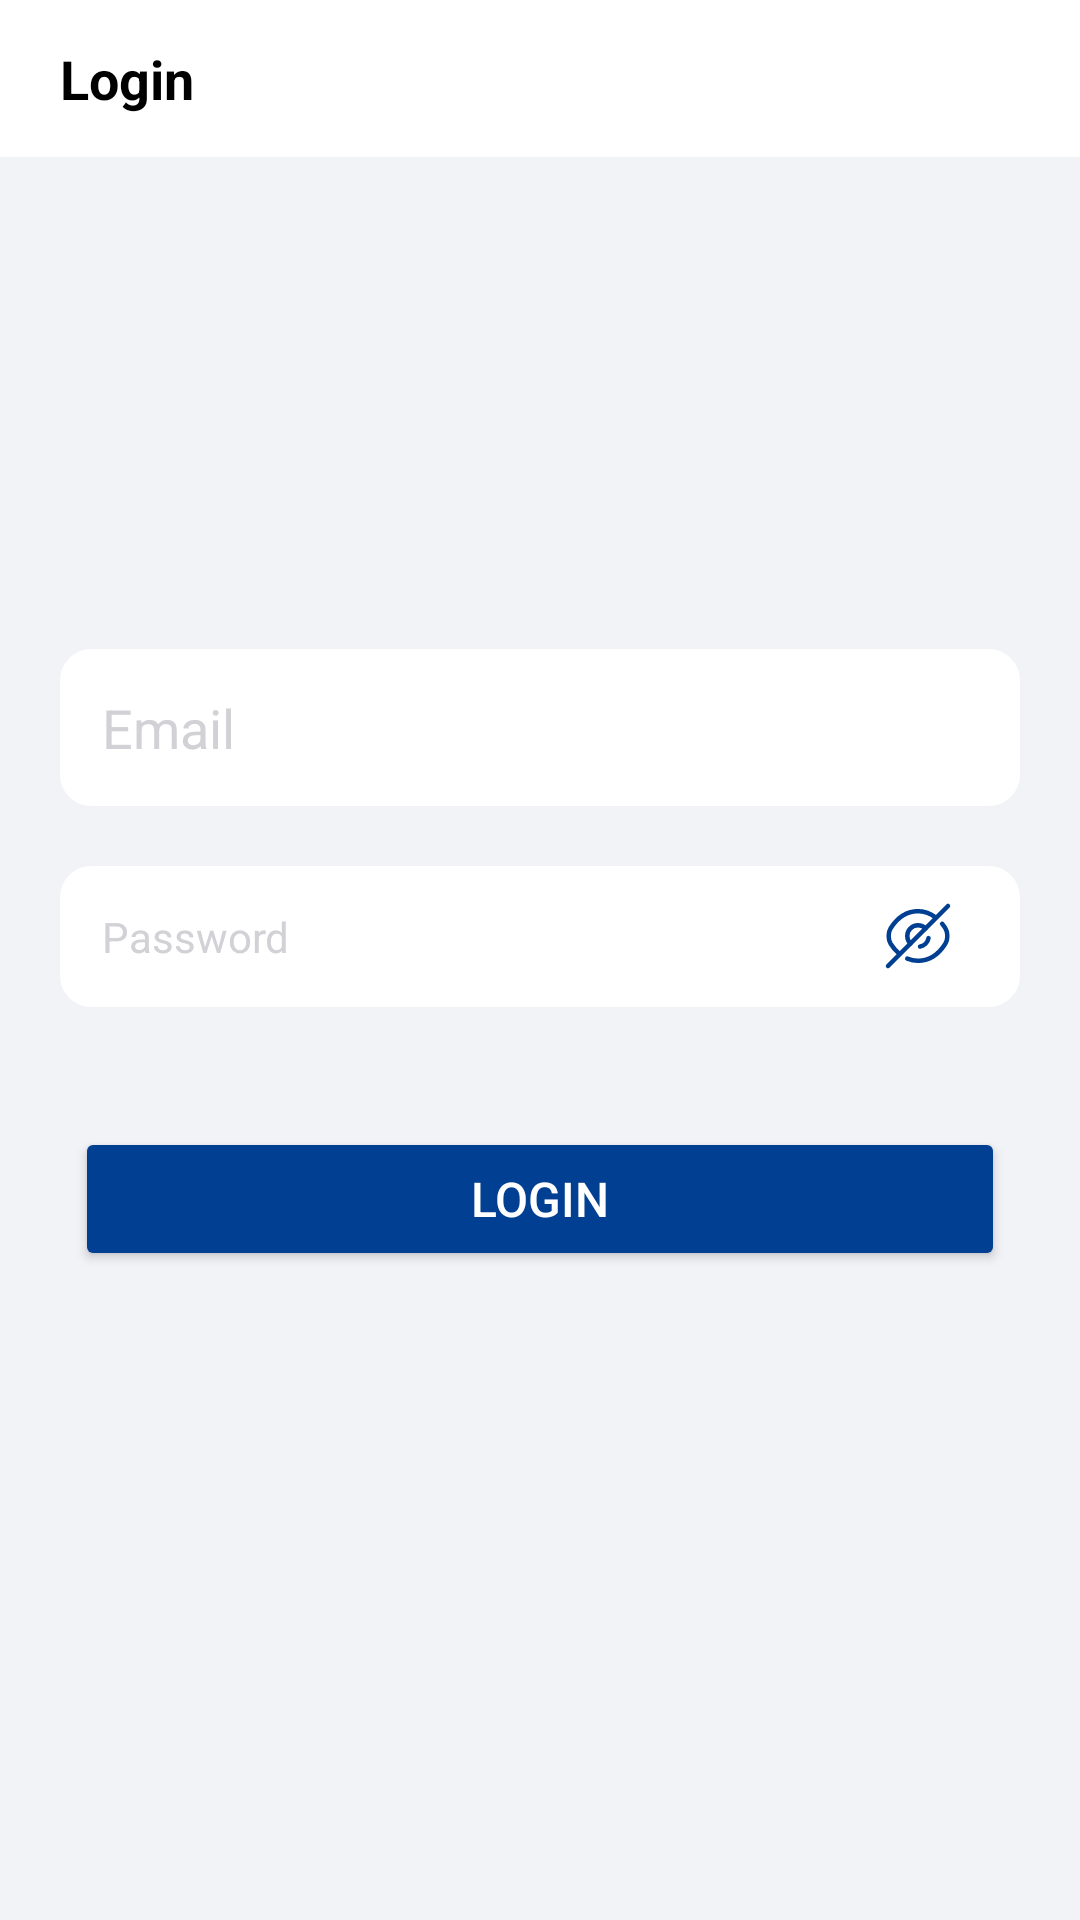

Where icons sit on this 1080 x 1920 app screen, as (x1, y1, x2, y2):
eye close: (885, 903, 951, 969)
